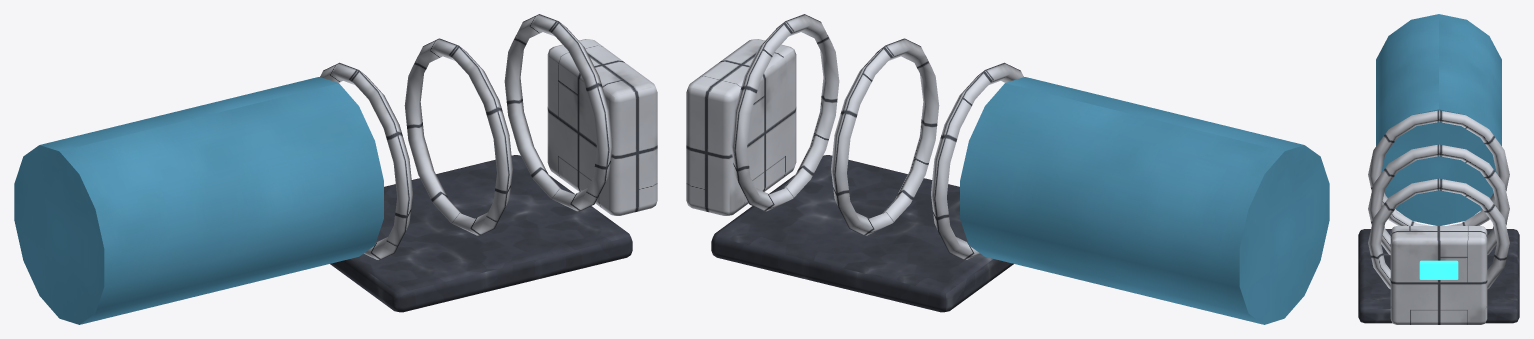
The model's file is sf_iceblock.glb.
3 views of the same model, side by side, from view 1: azimuth 30°, elevation 25°; view 2: azimuth 150°, elevation 25°; view 3: azimuth 270°, elevation 25° (orthographic). The views are drawn at different scales.
Visible parts, largest first — view 1: Base; view 2: Base; view 3: Base.
Part boxes in pixels (x1,y1,x2,y2): Base: [14, 14, 657, 324]; Base: [686, 14, 1329, 324]; Base: [1358, 14, 1519, 324].
Size of the model in its own units: 1.44 by 0.48 by 0.5.
Materials: 4 (4 with a texture image).
